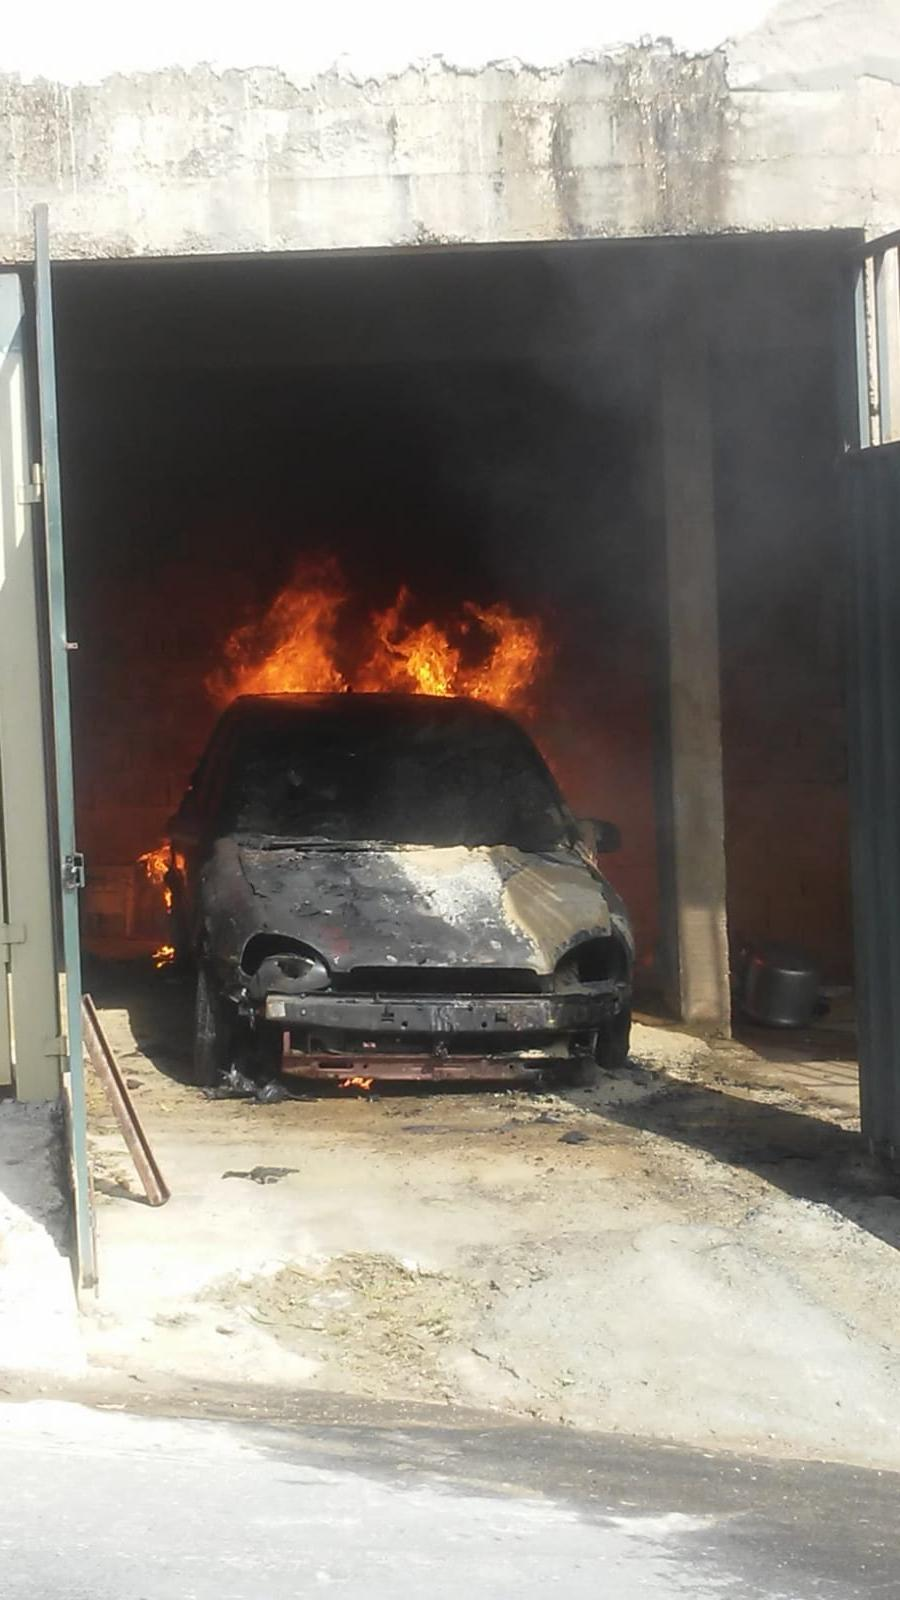Fire: (209, 543, 551, 711), (120, 832, 186, 903)
